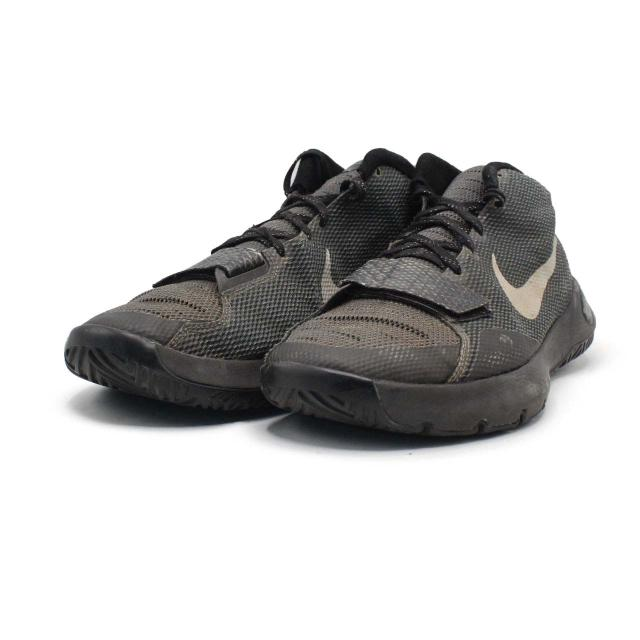midsole: (268, 282, 597, 438), (68, 324, 266, 415)
uppersole: (85, 151, 410, 358), (277, 166, 579, 381)
